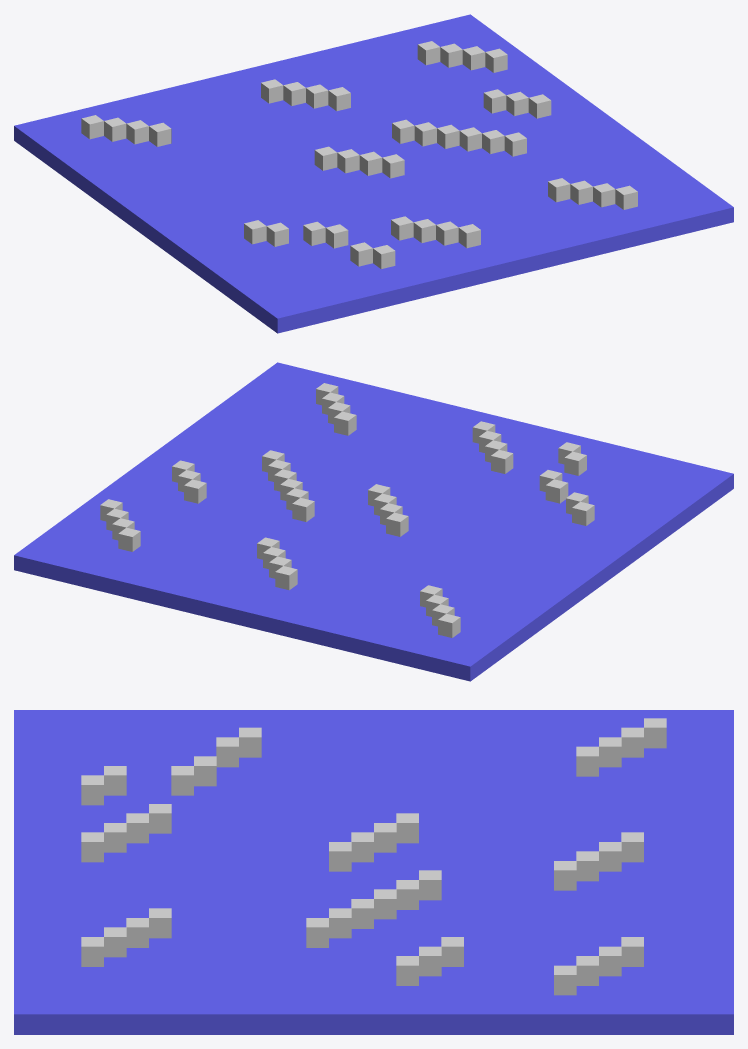
Rendered from water2.obj.
3 views of the same model, one above another, from view 1: azimuth 30°, elevation 25°; view 2: azimuth 150°, elevation 25°; view 3: azimuth 270°, elevation 25° (orthographic). The views are drawn at different scales.
Size of the model in its own units: 32 by 2 by 32.
1 material, 1 textured.
